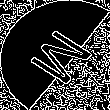M_SE: (16, 22, 94, 88)
